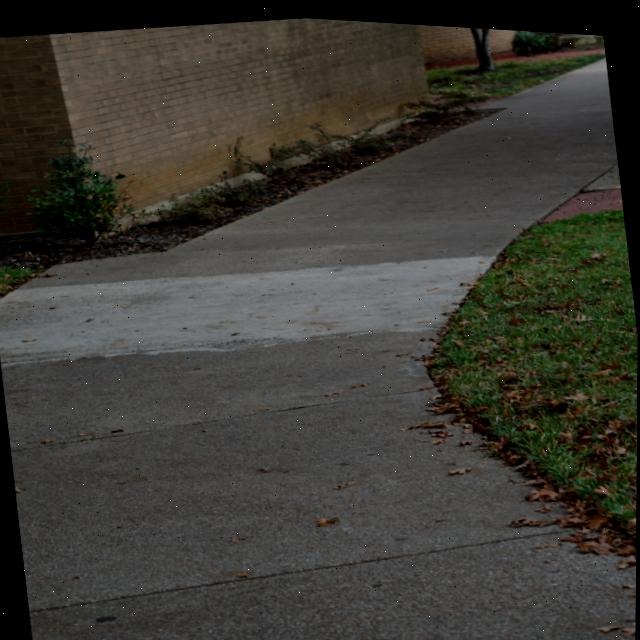Sidewalk: (0, 51, 637, 640)
